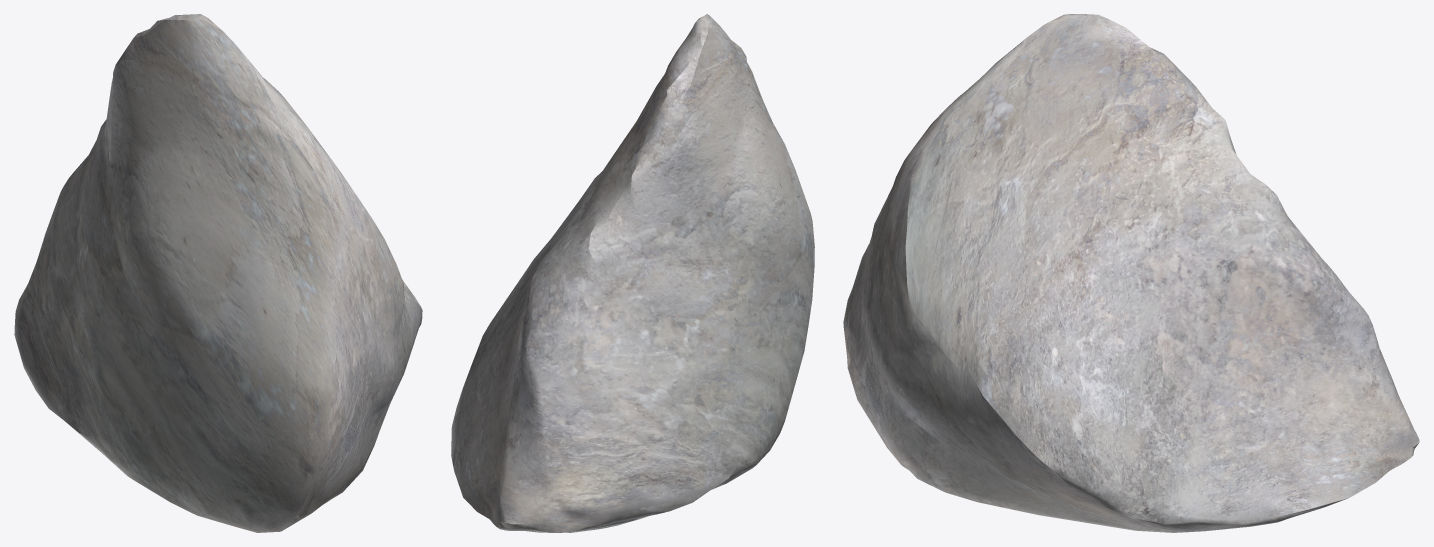
The model's file is rock_00E_2k.fbx.
3 views of the same model, side by side, from view 1: azimuth 30°, elevation 25°; view 2: azimuth 150°, elevation 25°; view 3: azimuth 270°, elevation 25° (orthographic). The views are drawn at different scales.
Parts seen in each view (by area): view 1: rock_00E_2k; view 2: rock_00E_2k; view 3: rock_00E_2k.
Boxes of the visible parts, x1,y1,x2,y2 form: rock_00E_2k: (14,14,422,532); rock_00E_2k: (451,14,814,532); rock_00E_2k: (843,14,1419,532).
Bounding box in the file's own units: 154 × 237 × 267.
